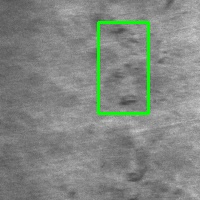rolled-in_scale: (98, 22, 148, 113)
